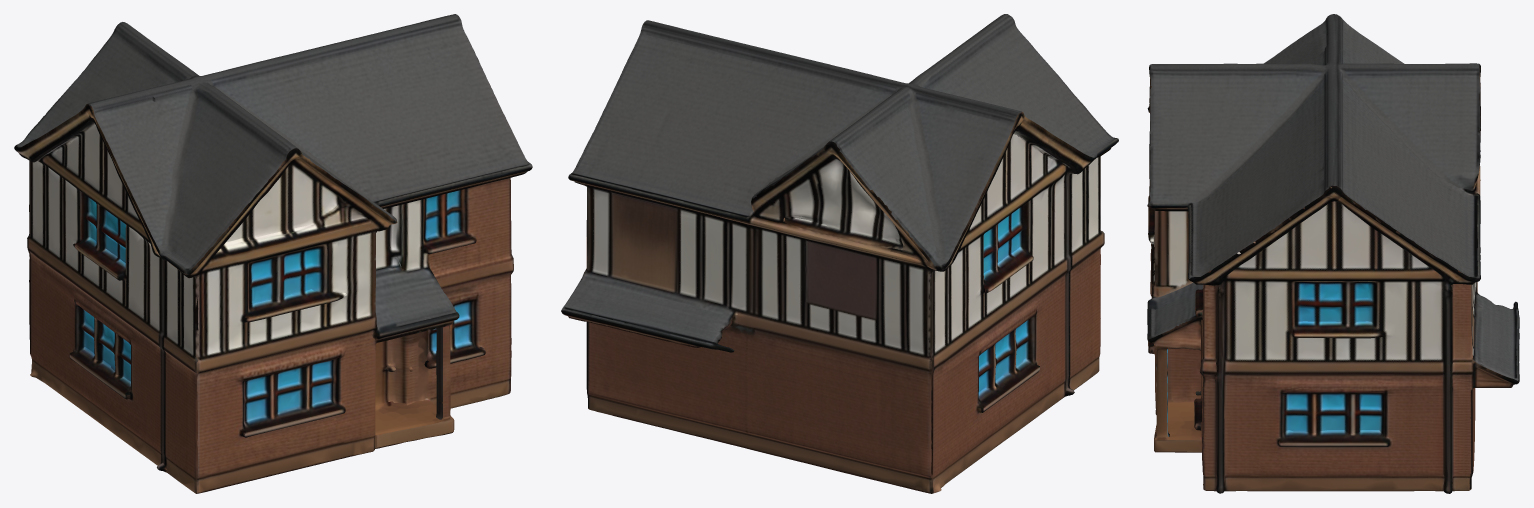
The model's file is house-large-family-house.glb.
The picture shows the model from 3 angles, left to right: view 1: azimuth 30°, elevation 25°; view 2: azimuth 150°, elevation 25°; view 3: azimuth 270°, elevation 25°; orthographic projection. The views are drawn at different scales.
Parts seen in each view (by area): view 1: tmp2014ef3a.ply; view 2: tmp2014ef3a.ply; view 3: tmp2014ef3a.ply.
Boxes of the visible parts, bbox=[...] form: tmp2014ef3a.ply: bbox=[14, 14, 532, 493]; tmp2014ef3a.ply: bbox=[561, 14, 1118, 493]; tmp2014ef3a.ply: bbox=[1147, 14, 1519, 493].
Size of the model in its own units: 1.97 by 1.66 by 1.79.
Materials: 1 (1 with a texture image).
